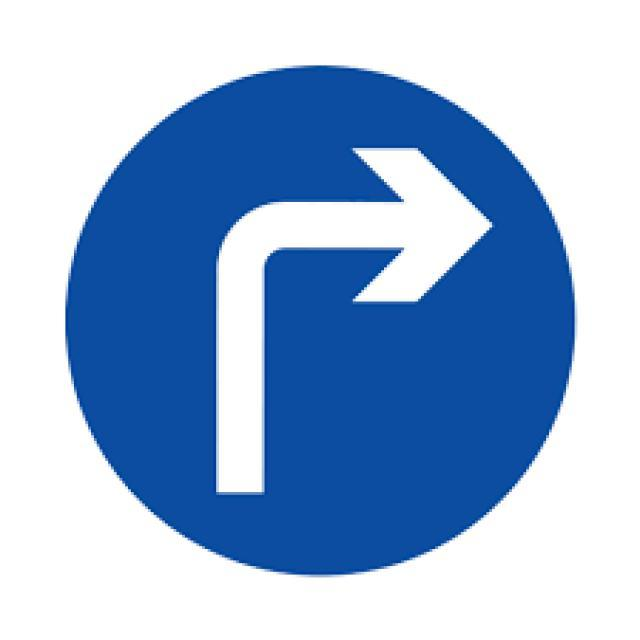compulsary turn right ahead: (69, 69, 577, 575)
